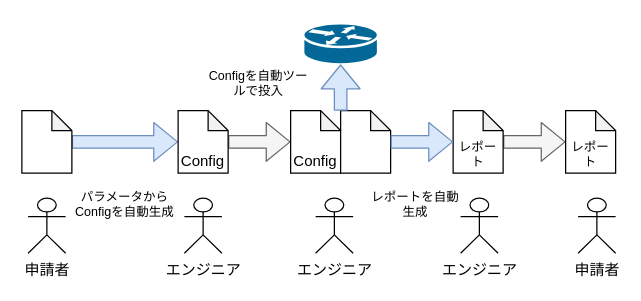
The diagram is 641 pixels wide and 301 high, and some of its shapes have lost their labels. The centre of each missing label's shape, as x and y in pixels:
Code: pixel 365 141
パラメータ: pixel 46 141
